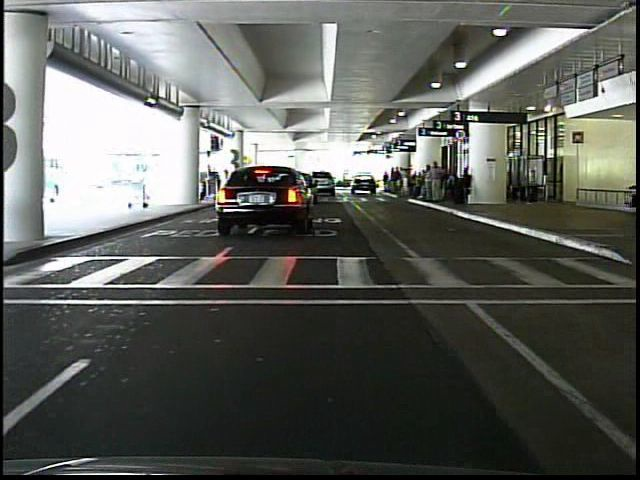person: (426, 156, 448, 209), (135, 166, 156, 211)
